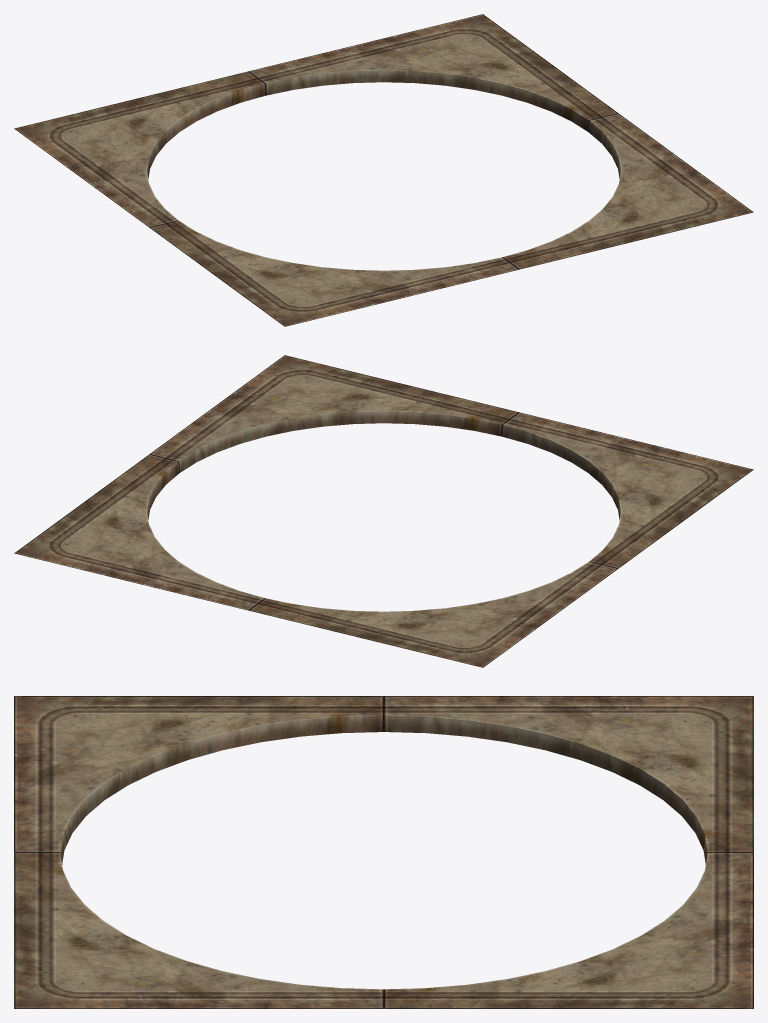
Rendered from 01_02_turbine_hole_small_pplant.dae.
3 renders of one model, top to bottom at view 1: azimuth 30°, elevation 25°; view 2: azimuth 150°, elevation 25°; view 3: azimuth 270°, elevation 25°, orthographic. The views are drawn at different scales.
Parts seen in each view (by area): view 1: 01_02_turbine_hole_small; view 2: 01_02_turbine_hole_small; view 3: 01_02_turbine_hole_small.
Boxes of the visible parts, bbox=[...] form: 01_02_turbine_hole_small: bbox=[14, 14, 753, 326]; 01_02_turbine_hole_small: bbox=[14, 355, 753, 667]; 01_02_turbine_hole_small: bbox=[14, 696, 753, 1008].
Size of the model in its own units: 4 by 0.0938 by 4.
